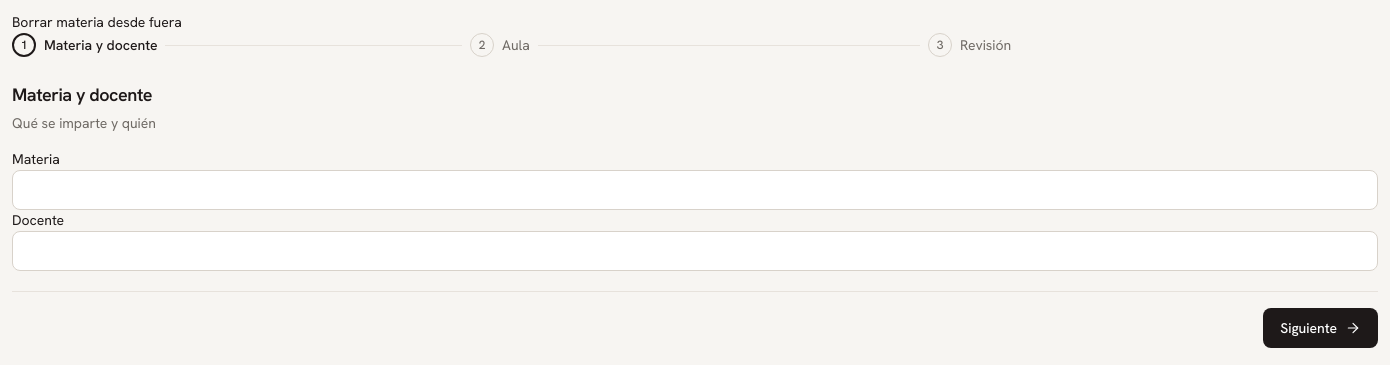
Asistente · navegación y validación por paso › Atrás vuelve sin validar y conserva lo capturado
This screenshot has width=1390, height=365.
Type "Álgebra" into the field labelled "Materia".
click(695, 190); type("Álgebra")  # box left=12, top=170, right=1378, bottom=210
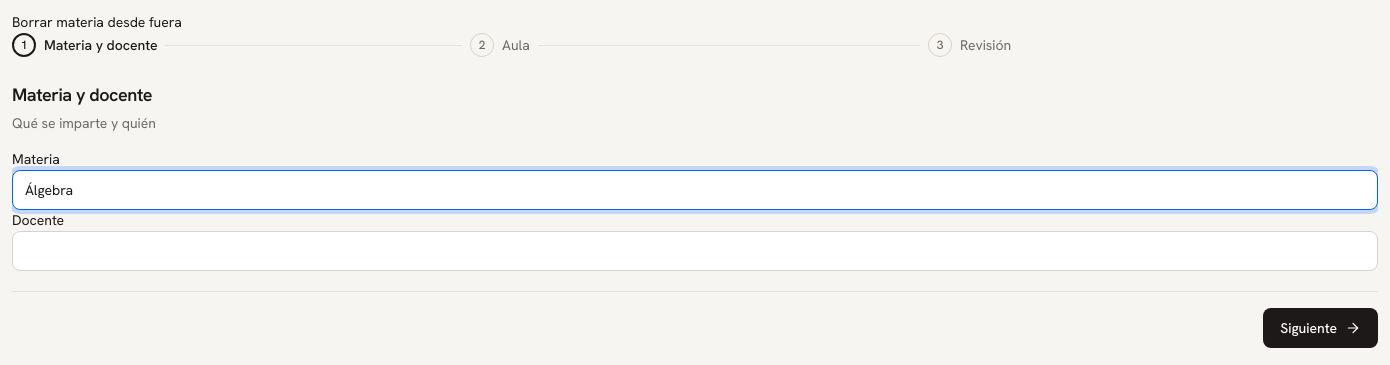
Type "Ana" into the field labelled "Docente".
click(695, 251); type("Ana")  # box left=12, top=231, right=1378, bottom=271
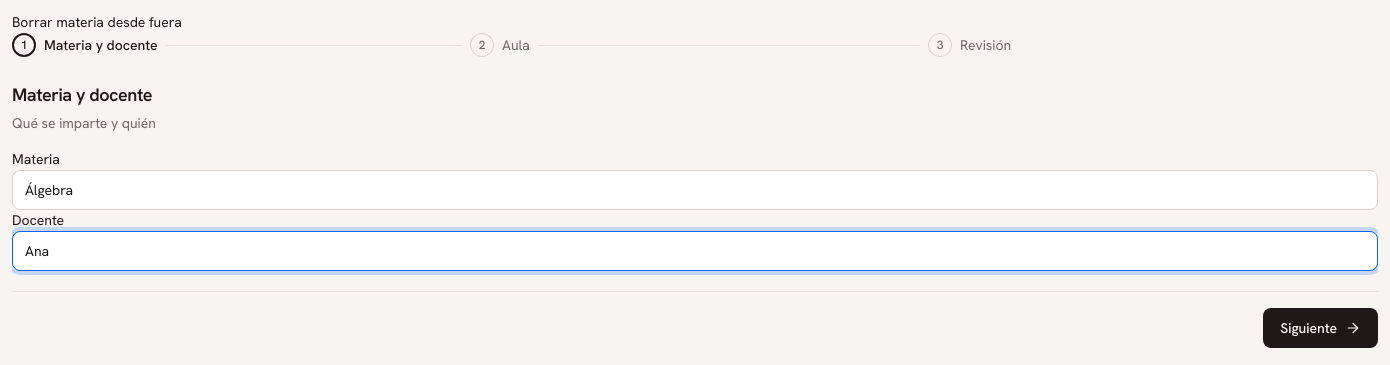
Click the button "Siguiente".
click(1321, 328)  # box left=1263, top=308, right=1378, bottom=348
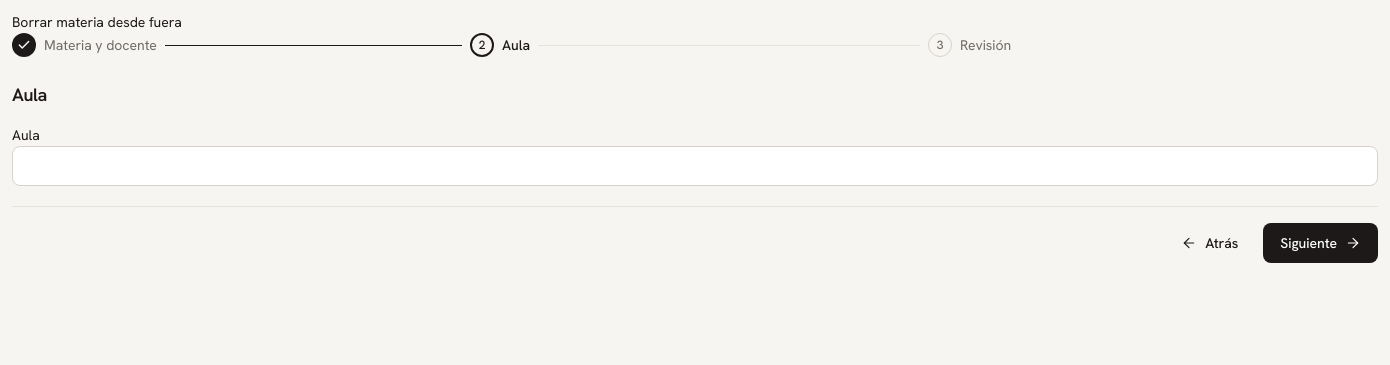
Click the button "Atrás".
click(1210, 243)  # box left=1164, top=223, right=1255, bottom=263
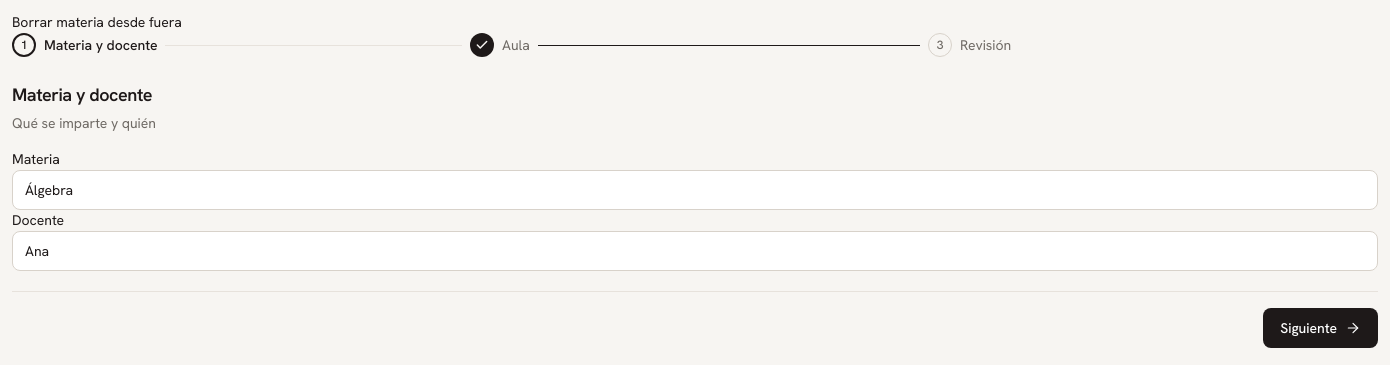
Check: the heading "Materia y docente" is shown, box left=12, top=83, right=152, bottom=106
Check: the field labelled "Materia" holds "Álgebra", box left=12, top=170, right=1378, bottom=210
